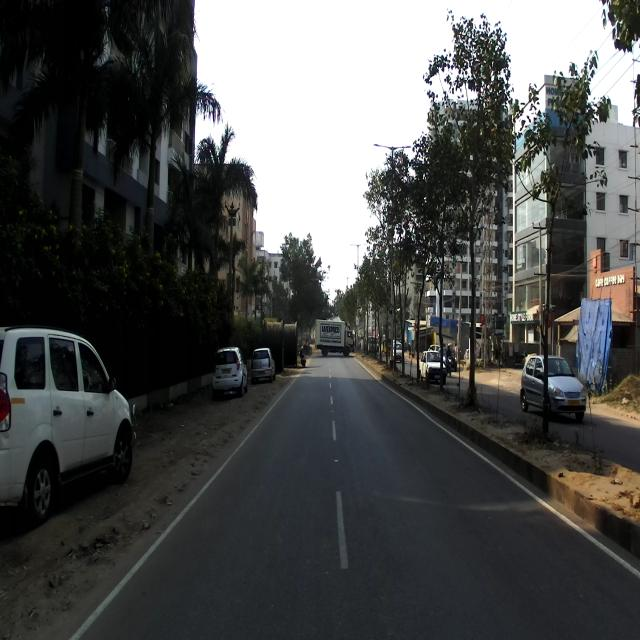car ahead at: (0, 323, 140, 531)
